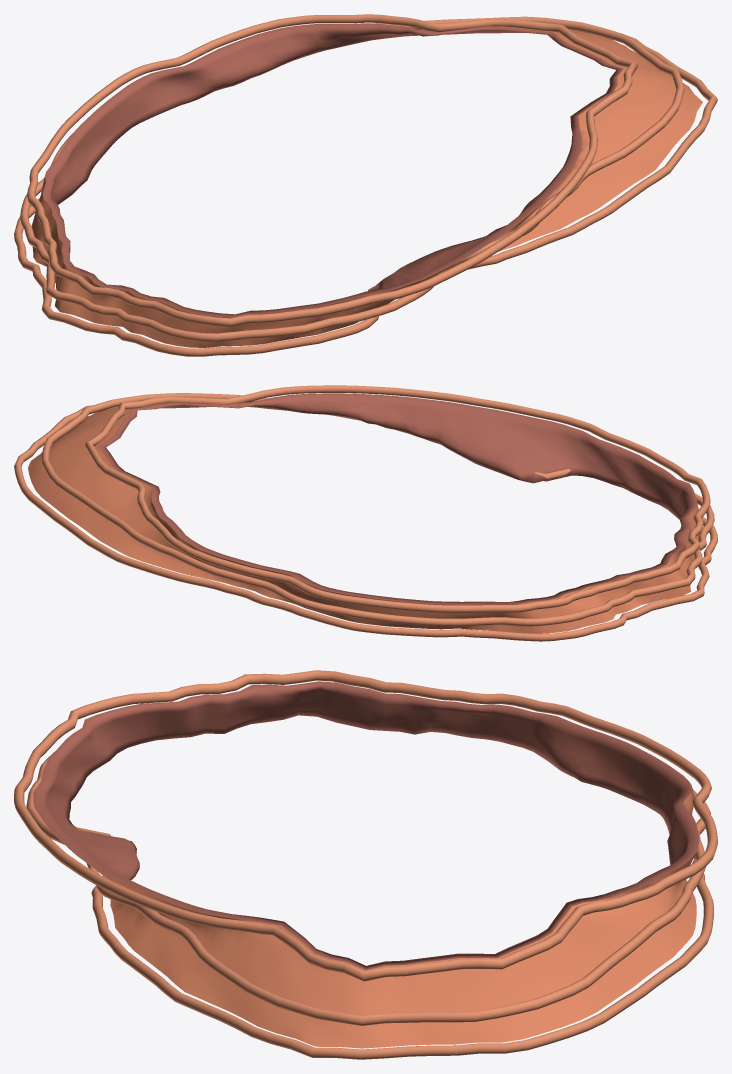
Rendered from side_kuhime_autumn_bun_wrap.glb.
The picture shows the model from 3 angles, top to bottom: view 1: azimuth 30°, elevation 25°; view 2: azimuth 150°, elevation 25°; view 3: azimuth 270°, elevation 25°; orthographic projection. The views are drawn at different scales.
Parts seen in each view (by area): view 1: folded_silk, band_lining, silk; view 2: folded_silk, band_lining, silk; view 3: silk, band_lining, folded_silk.
Boxes of the visible parts, box(x1,y1,x2,y2) form: folded_silk: box(14, 14, 717, 356); band_lining: box(42, 23, 623, 317); silk: box(31, 26, 702, 347); folded_silk: box(14, 385, 717, 641); band_lining: box(99, 393, 696, 604); silk: box(28, 402, 699, 633); silk: box(74, 789, 696, 1048); band_lining: box(33, 681, 699, 970); folded_silk: box(14, 670, 717, 1059).
Bounding box in the file's own units: 14.96 × 1.85 × 10.83.
